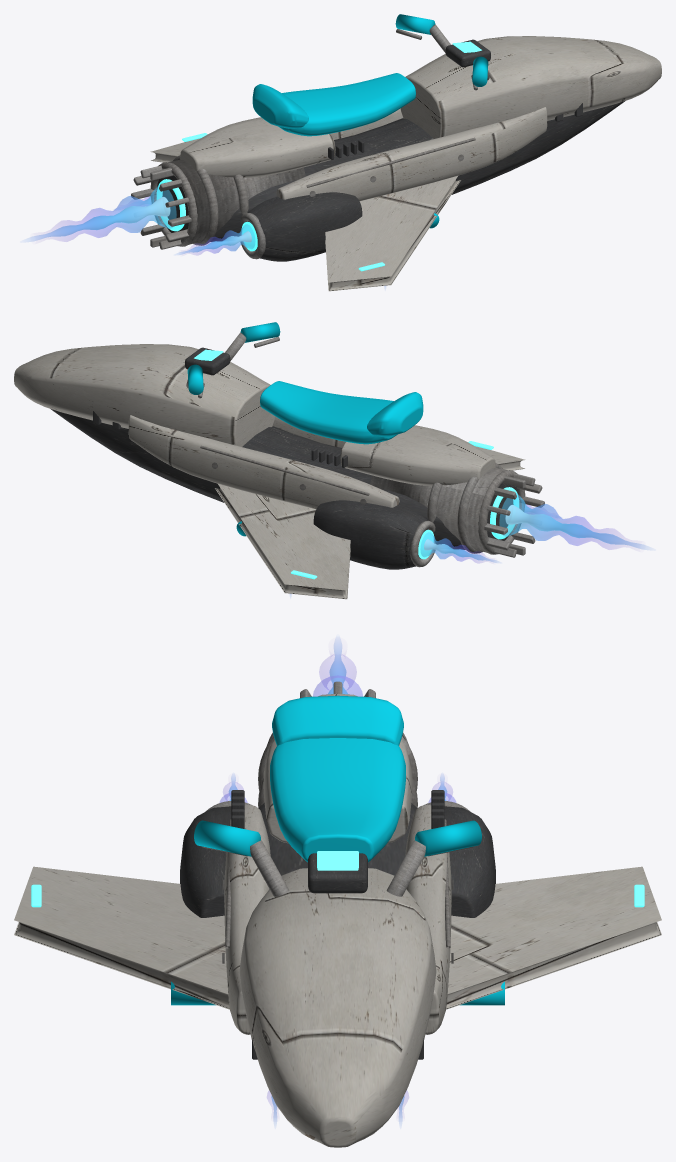
Rendered from HoverBike_MML.glb.
3 renders of one model, top to bottom at view 1: azimuth 30°, elevation 25°; view 2: azimuth 150°, elevation 25°; view 3: azimuth 270°, elevation 25°, orthographic. The views are drawn at different scales.
Visible parts, largest first — view 1: SM_Boneyard_HoverBike, Jet_rear, Jet_side_r; view 2: SM_Boneyard_HoverBike, Jet_rear, Jet_side_l; view 3: SM_Boneyard_HoverBike, Jet_rear.
Part boxes in pixels (x1,y1,x2,y2): SM_Boneyard_HoverBike: (131,14,661,291); Jet_rear: (29,185,176,241); Jet_side_r: (178,224,255,254); SM_Boneyard_HoverBike: (14,322,544,599); Jet_rear: (499,493,646,549); Jet_side_l: (420,532,497,562); SM_Boneyard_HoverBike: (14,681,661,1147); Jet_rear: (313,639,362,696).
Bounding box in the file's own units: 4.25 × 1.39 × 2.17.
6 materials, 4 textured.
